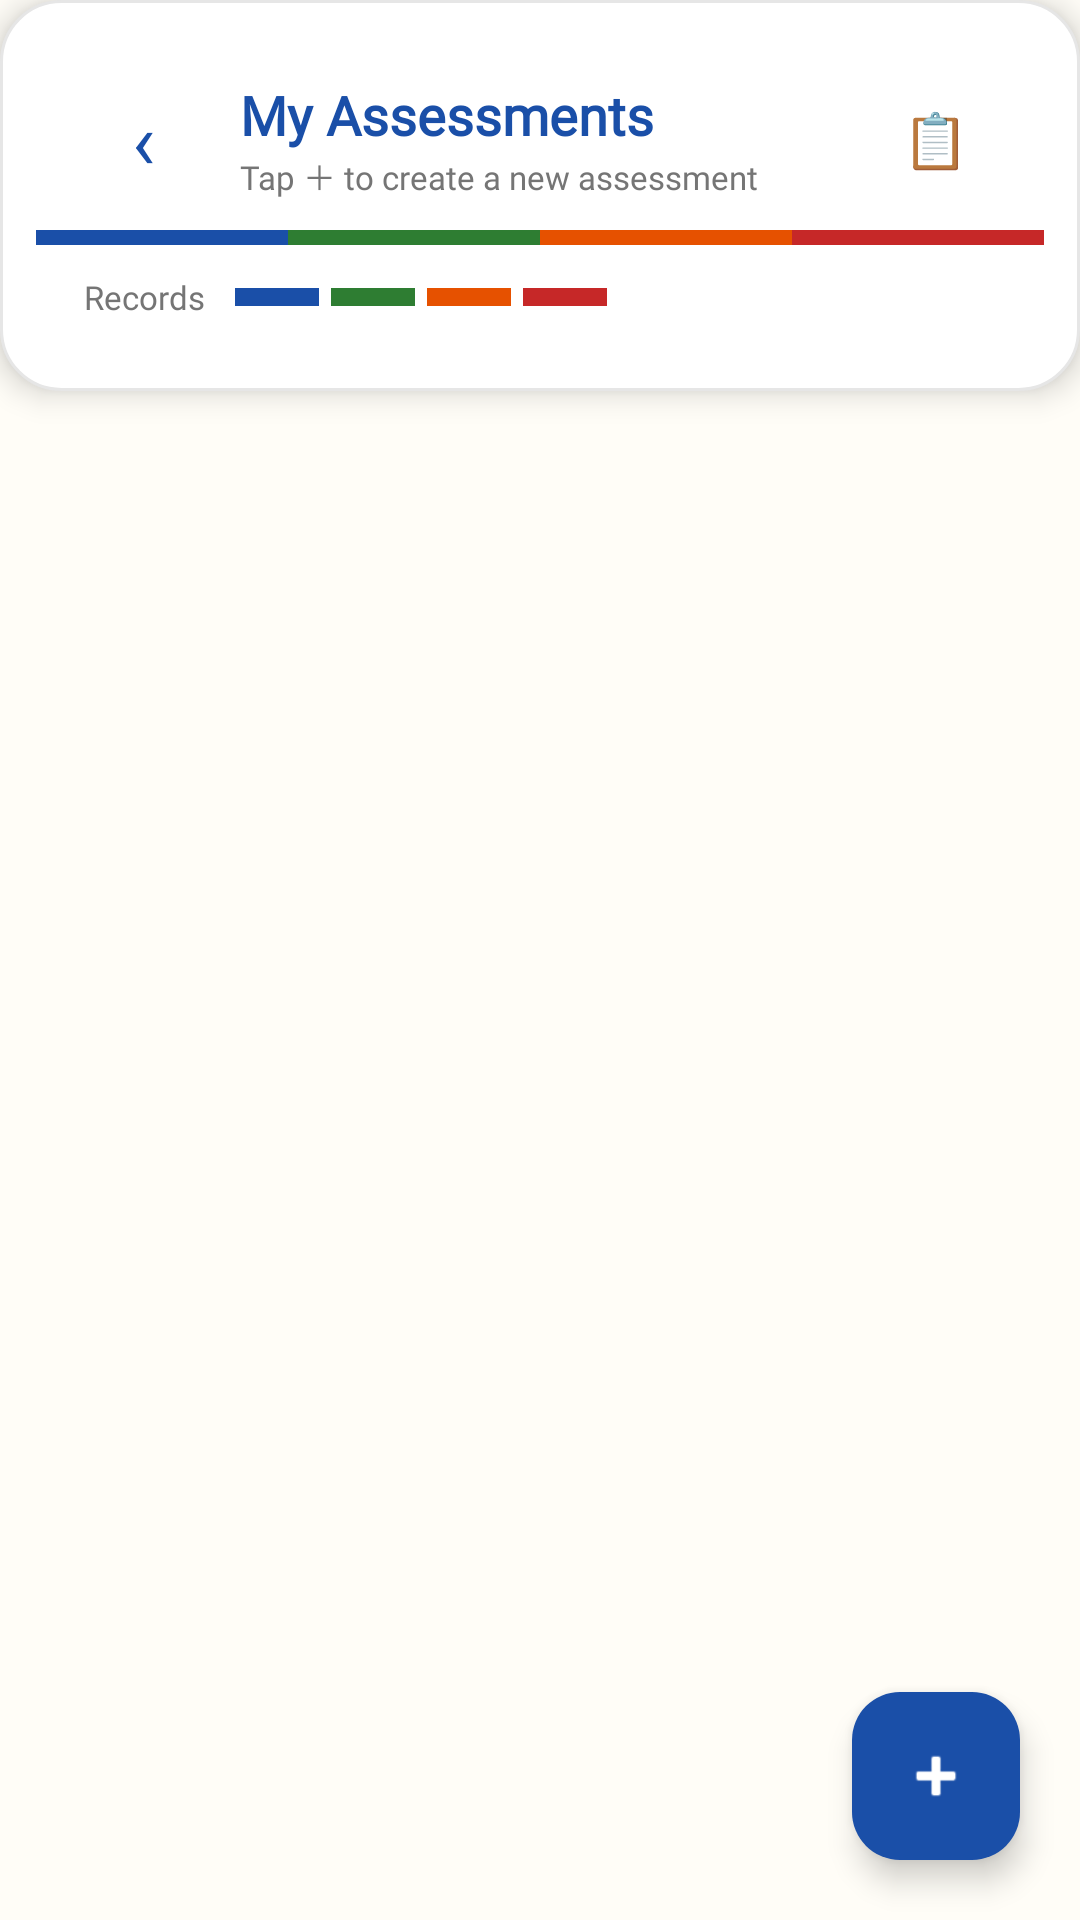

Where to tap for icons on this 1080 × 1920 app screen, as point (x, y):
New Assessment: point (936, 1776)
